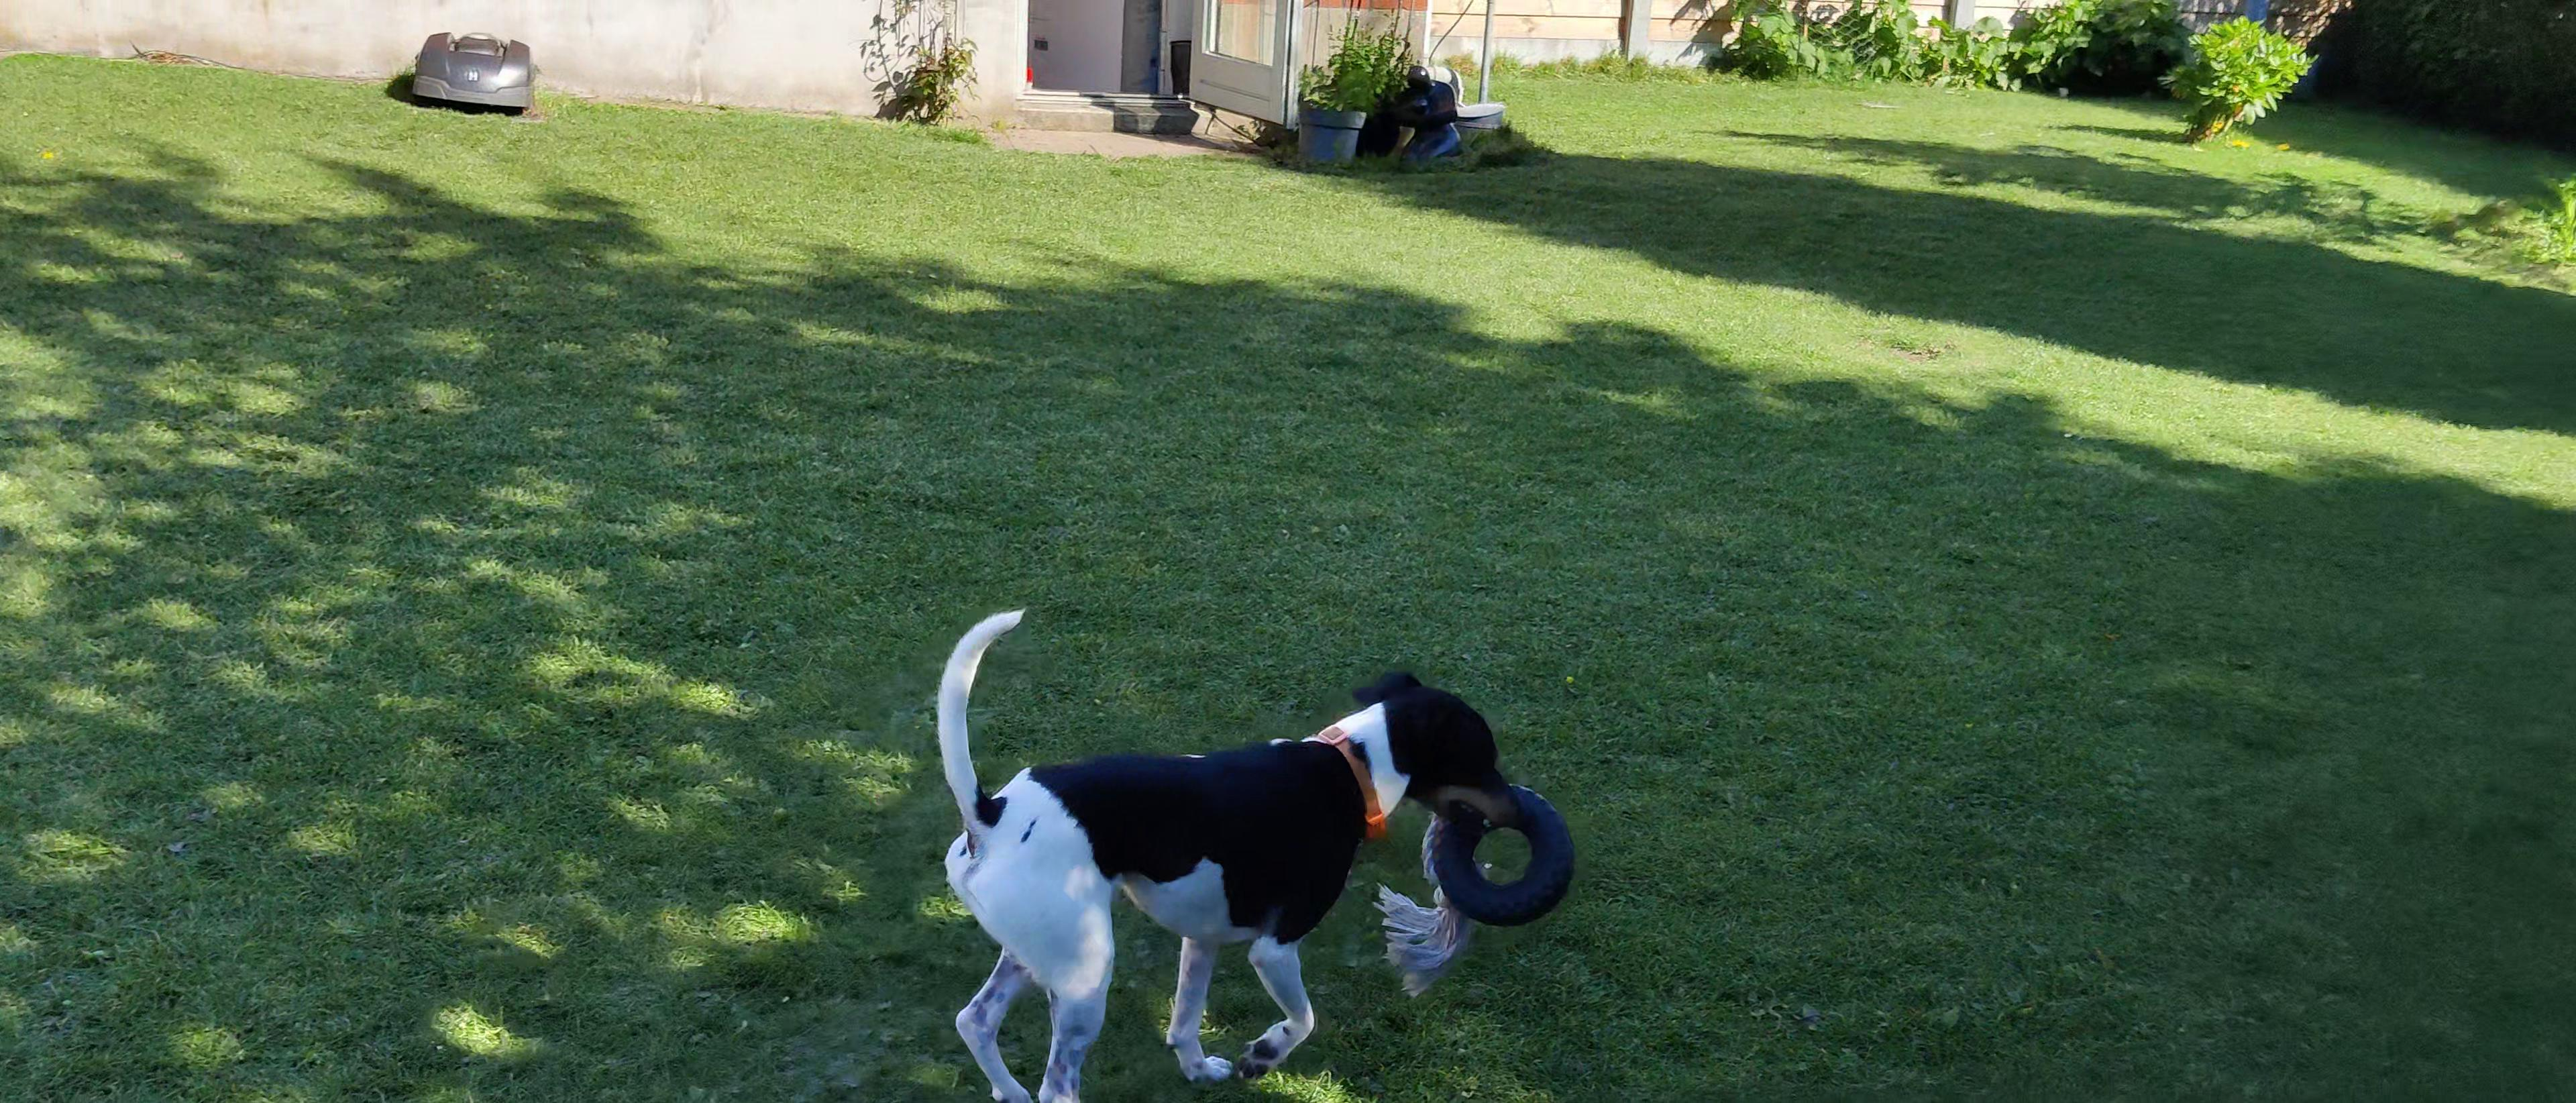Dog: (904, 595, 1534, 1103)
